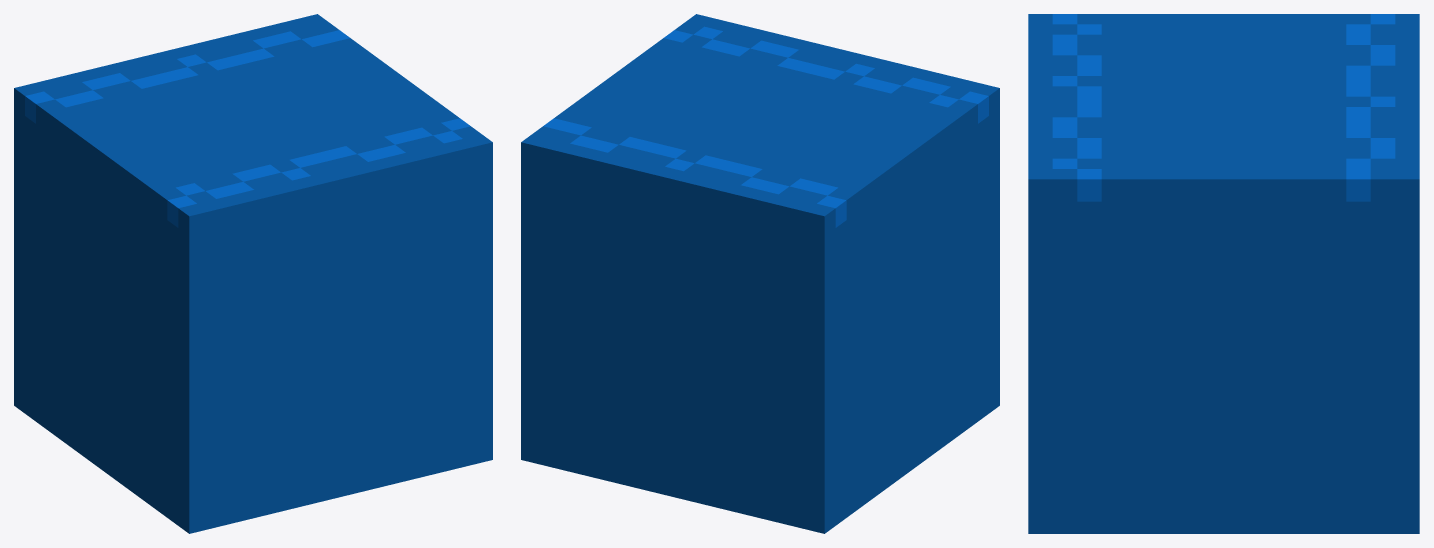
The model's file is WinterGrass-1.obj.
3 renders of one model, left to right at view 1: azimuth 30°, elevation 25°; view 2: azimuth 150°, elevation 25°; view 3: azimuth 270°, elevation 25°, orthographic. The views are drawn at different scales.
Bounding box in the file's own units: 1.6 × 1.6 × 1.6.
1 material, 1 textured.
